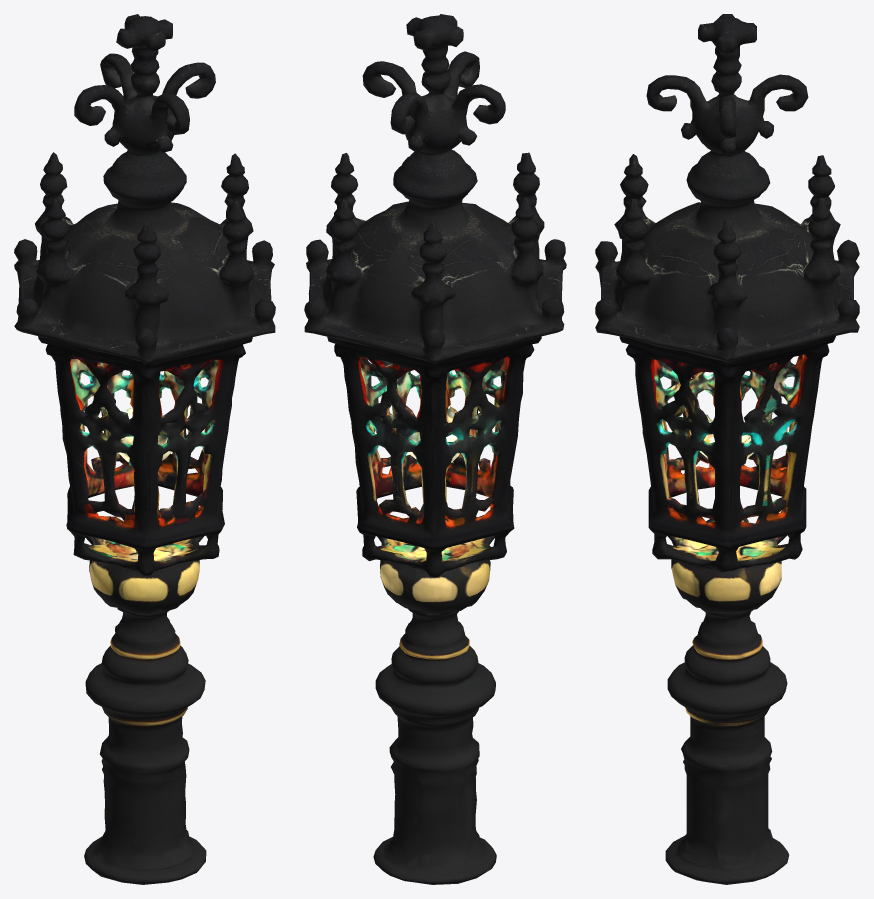
File: alderamontico-civic-lamp.glb
3 renders of one model, left to right at view 1: azimuth 30°, elevation 25°; view 2: azimuth 150°, elevation 25°; view 3: azimuth 270°, elevation 25°, orthographic.
Bounding box in the file's own units: 0.6145 × 1.91 × 0.544.
Materials: 1 (1 with a texture image).
